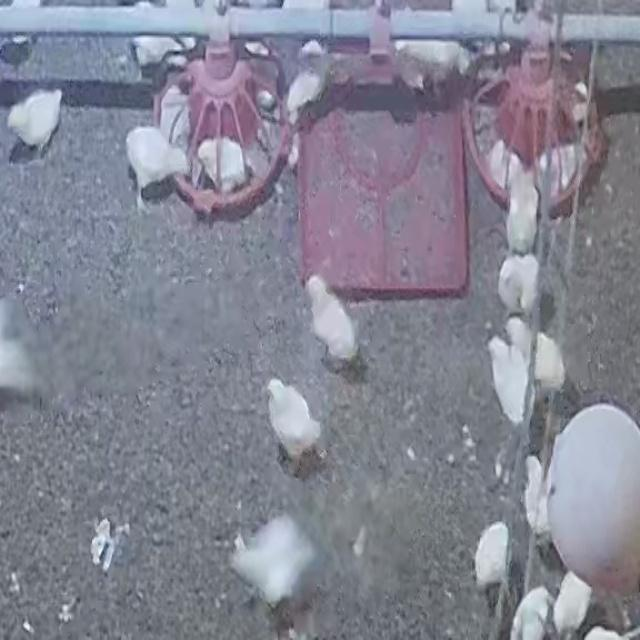chicken: (119, 126, 193, 212), (266, 378, 326, 468), (304, 271, 360, 363), (504, 311, 568, 390), (3, 83, 67, 153), (481, 334, 531, 422), (388, 41, 476, 86), (195, 138, 257, 193), (503, 169, 543, 250), (281, 64, 331, 127), (468, 523, 513, 588), (132, 34, 197, 79), (519, 452, 552, 540), (497, 255, 544, 312), (505, 590, 554, 638), (484, 140, 526, 192), (542, 147, 590, 192), (556, 576, 587, 632)
